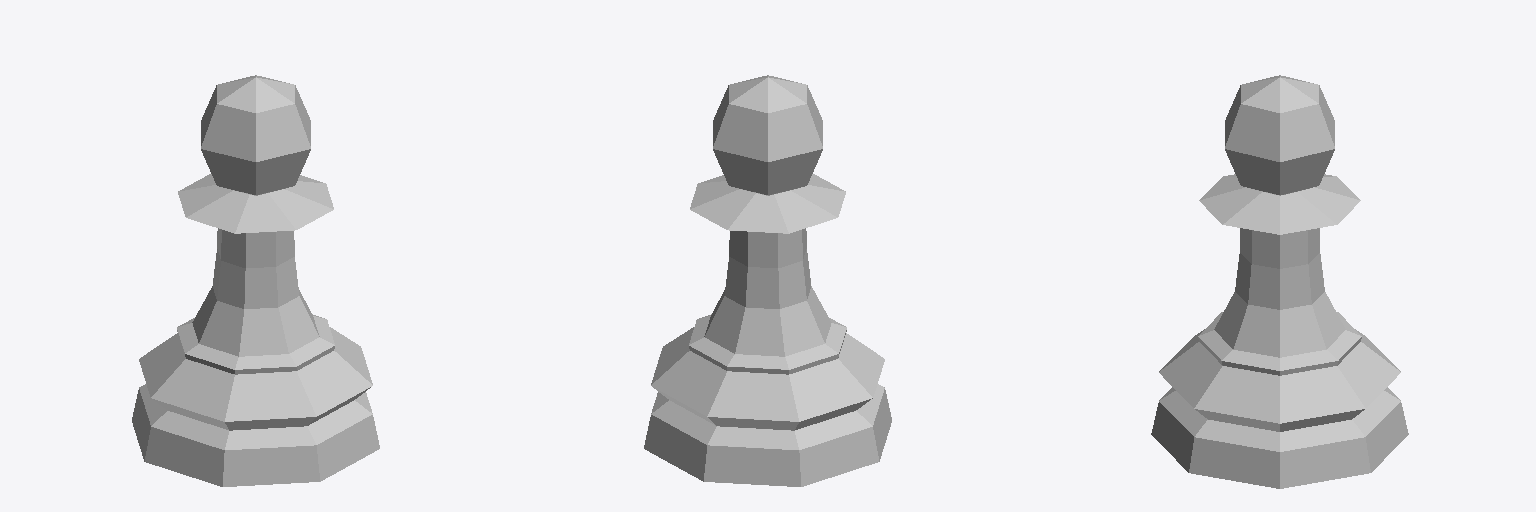
Rendered from Pawn.obj.
3 renders of one model, left to right at view 1: azimuth 30°, elevation 25°; view 2: azimuth 150°, elevation 25°; view 3: azimuth 270°, elevation 25°, orthographic.
Visible parts, largest first — view 1: Pawn; view 2: Pawn; view 3: Pawn.
Boxes of the visible parts, x1,y1,x2,y2 form: Pawn: [132, 75, 379, 486]; Pawn: [644, 75, 891, 486]; Pawn: [1151, 75, 1408, 488].
Bounding box in the file's own units: 3 × 4.59 × 3.